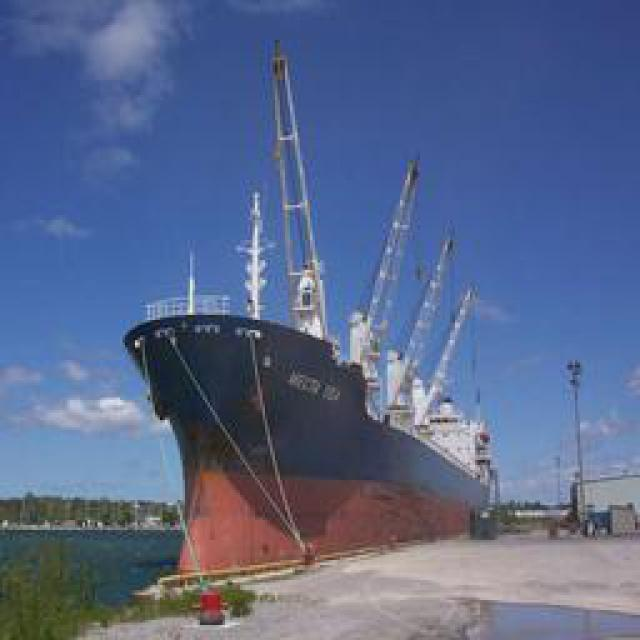Ship: (126, 226, 489, 579)
